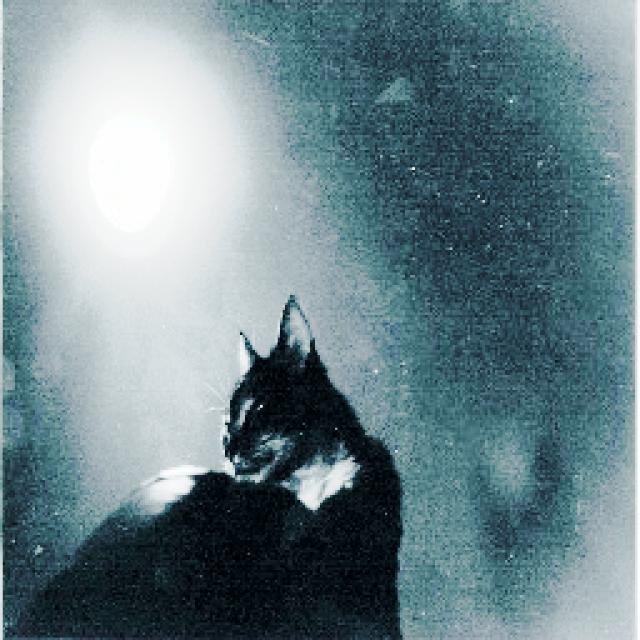cat: (10, 292, 422, 640)
